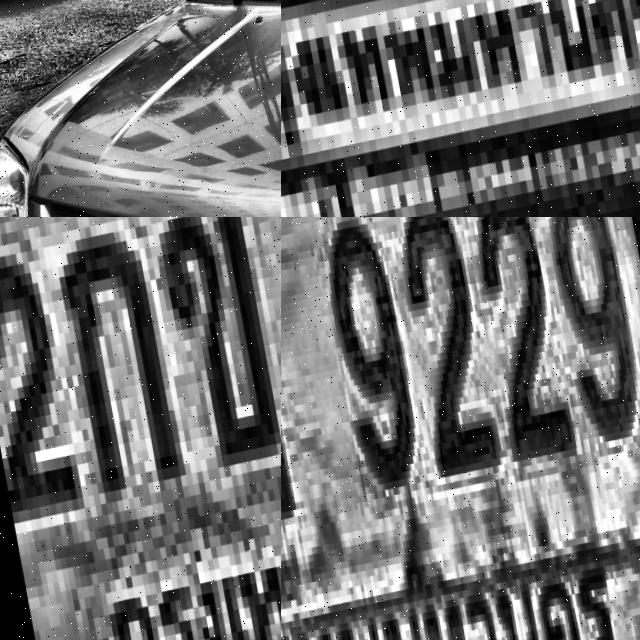license-plate: (281, 217, 640, 640), (0, 217, 281, 640), (281, 0, 640, 217)
